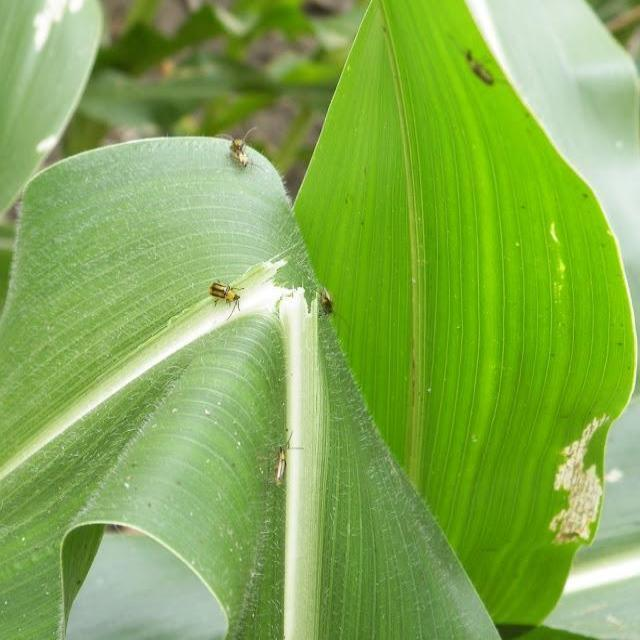trips: (461, 44, 504, 99), (271, 438, 297, 492), (208, 276, 244, 314)
